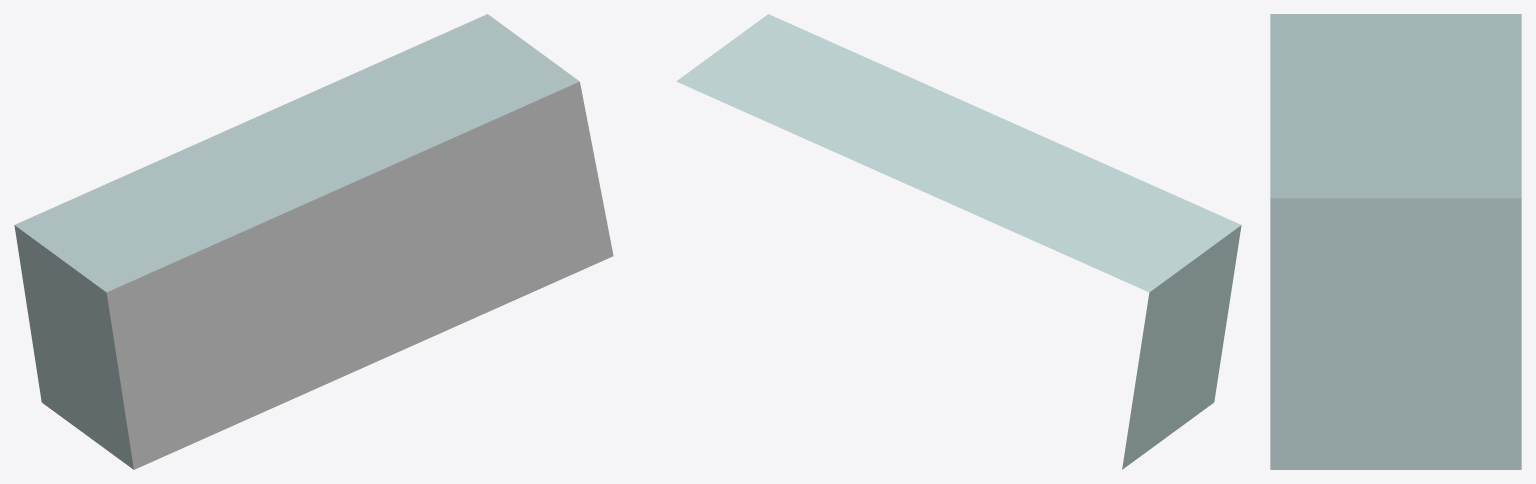
The picture shows the model from 3 angles, left to right: view 1: azimuth 30°, elevation 25°; view 2: azimuth 150°, elevation 25°; view 3: azimuth 270°, elevation 25°; orthographic projection. The views are drawn at different scales.
Visible parts, largest first — view 1: 0_2_1_1_3_3_3_3_1; view 2: 0_2_1_1_3_3_3_3_1; view 3: 0_2_1_1_3_3_3_3_1.
Boxes of the visible parts, x1=… form: 0_2_1_1_3_3_3_3_1: x1=14, y1=14, x2=613, y2=469; 0_2_1_1_3_3_3_3_1: x1=676, y1=14, x2=1241, y2=469; 0_2_1_1_3_3_3_3_1: x1=1270, y1=14, x2=1521, y2=469.
Size of the model in its own units: 9.52 by 5.02 by 3.
